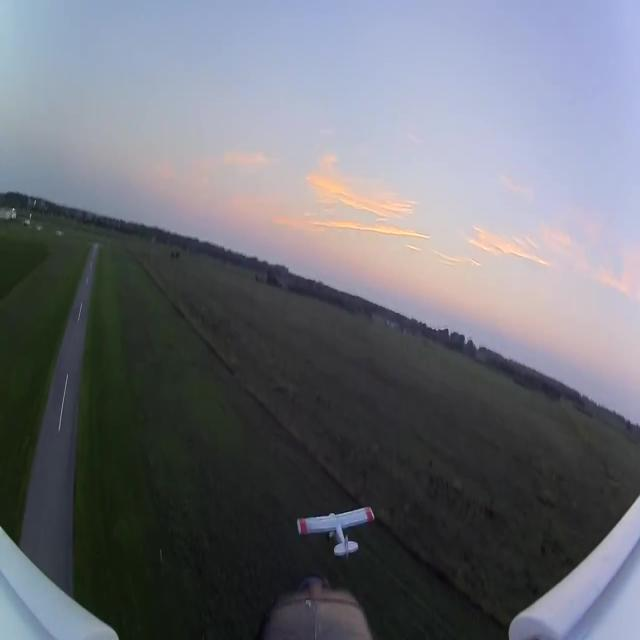iha: (328, 500, 343, 561)
